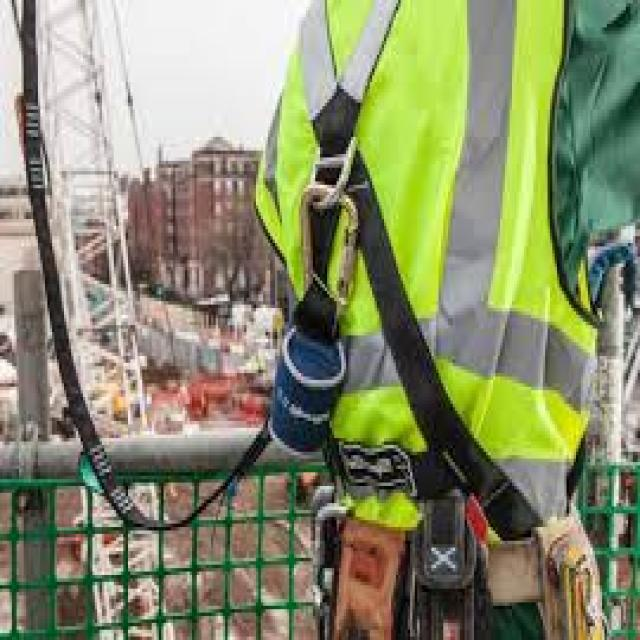harness: (0, 148, 375, 543)
